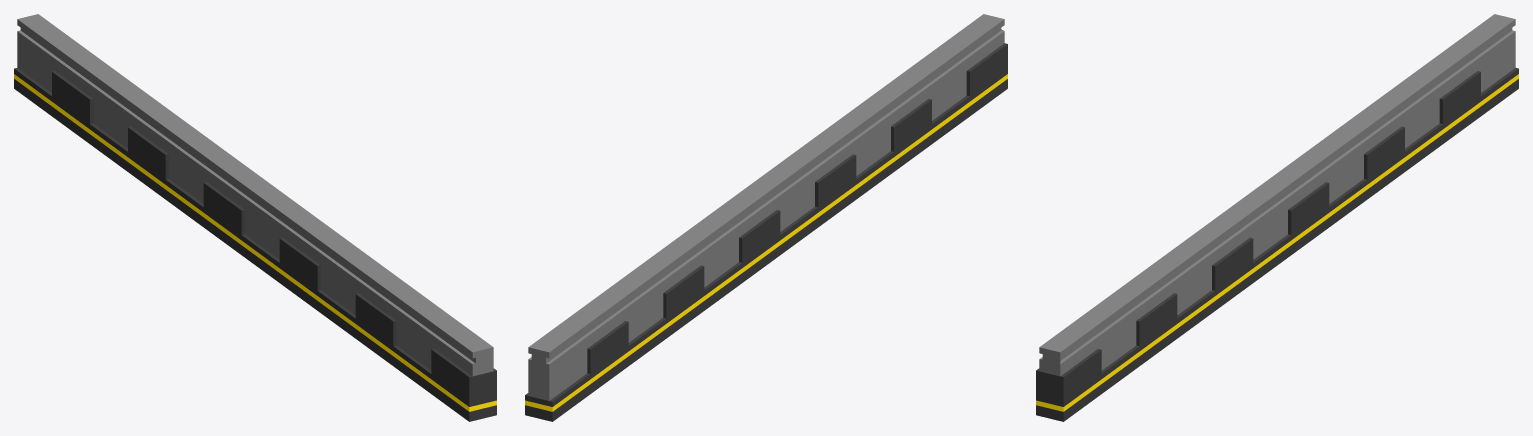
The model's file is rail.fbx.
3 renders of one model, left to right at view 1: azimuth 30°, elevation 25°; view 2: azimuth 150°, elevation 25°; view 3: azimuth 330°, elevation 25°, orthographic.
Parts seen in each view (by area): view 1: Cube; view 2: Cube; view 3: Cube.
Part boxes in pixels (bbox=[...]): Cube: bbox=[14, 14, 496, 421]; Cube: bbox=[525, 14, 1007, 421]; Cube: bbox=[1036, 14, 1518, 421].
Size of the model in its own units: 42 by 100 by 1200.
